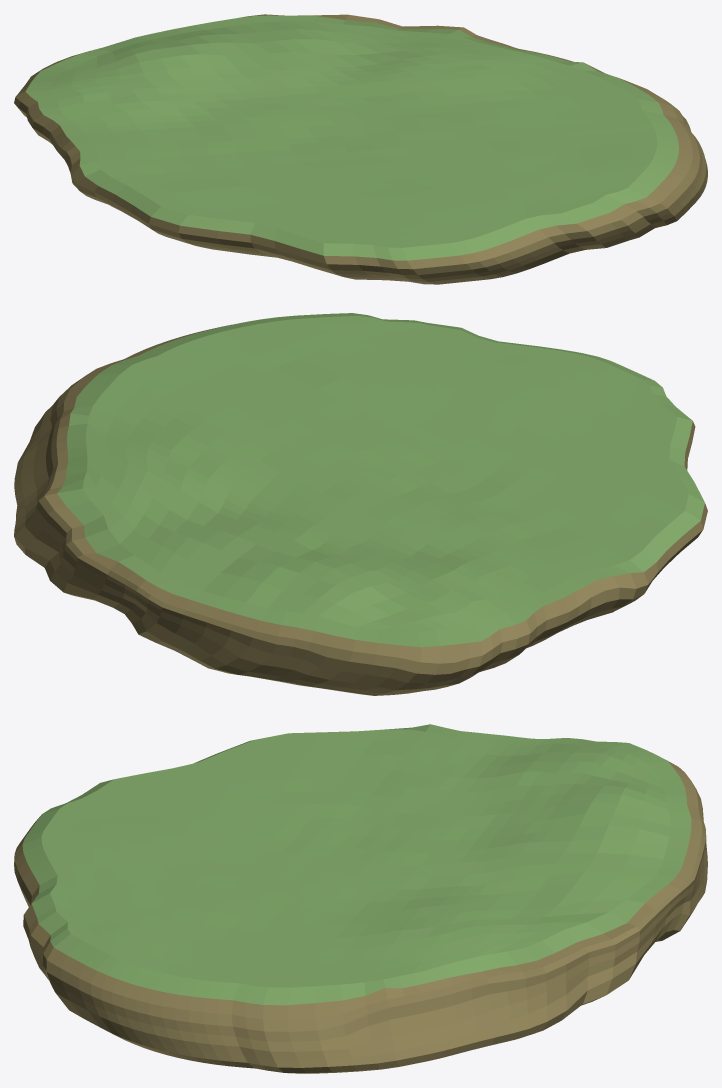
File: big_island_04.fbx
3 views of the same model, one above another, from view 1: azimuth 30°, elevation 25°; view 2: azimuth 150°, elevation 25°; view 3: azimuth 270°, elevation 25° (orthographic). The views are drawn at different scales.
Visible parts, largest first — view 1: Big_Island_01_LOD0; view 2: Big_Island_01_LOD0; view 3: Big_Island_01_LOD0.
Part boxes in pixels (x1,y1,x2,y2): Big_Island_01_LOD0: [14, 14, 707, 284]; Big_Island_01_LOD0: [14, 313, 707, 695]; Big_Island_01_LOD0: [14, 724, 707, 1073].
Size of what is drawn, in the model's own units: 1799 by 268 by 1763.
